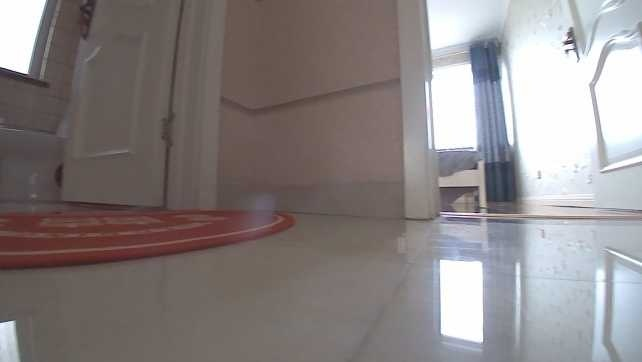bed1: (437, 146, 488, 204)
blanket: (0, 207, 295, 268)
door_anno: (60, 0, 224, 212), (555, 0, 639, 210)
door_sill: (437, 210, 640, 220)
toilet: (1, 127, 66, 200)
